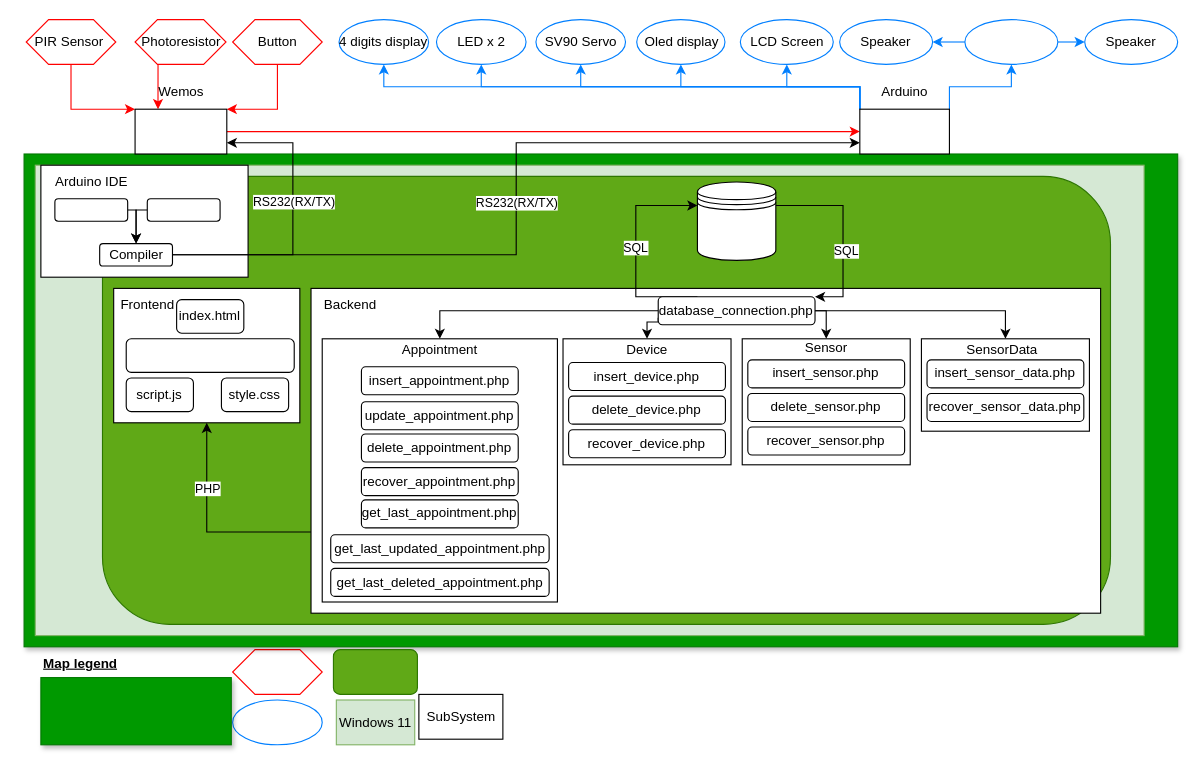
The diagram is 1204 pixels wide and 773 high, and some of its shapes have lost their labels. The centre of each missing label's shape, as x and y in pixels:
Arduino.binary: (904,131)
Arduino.ino: (183,209)
Asus Rog Strix G15 Type of computer processor Ryzen 9 Internal Memory 16 GB: (136,712)
DF Player mini: (1011,41)
Docker: (374,671)
Input: (277,671)
inside_spirit_machine.html: (209,355)
mariadb: (736,220)
Output: (277,722)
Wemos.binary: (180,131)
Wemos.ino: (91,209)
